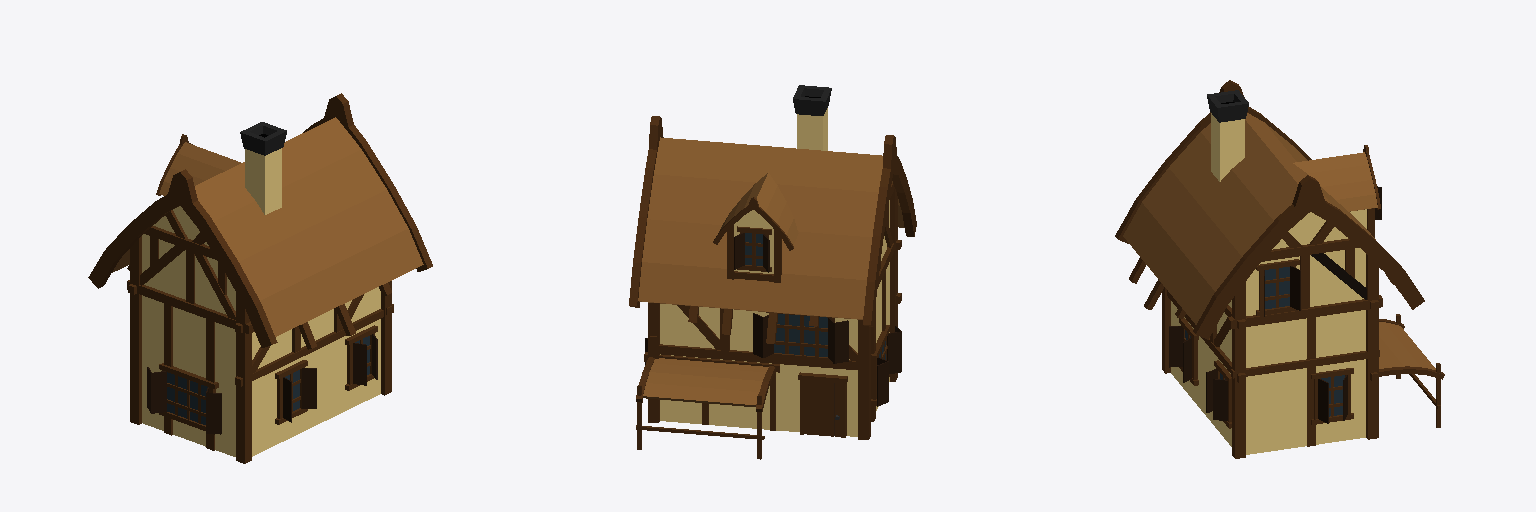
The model's file is business_byzantine.obj.
3 renders of one model, left to right at view 1: azimuth 30°, elevation 25°; view 2: azimuth 150°, elevation 25°; view 3: azimuth 270°, elevation 25°, orthographic.
Parts seen in each view (by area): view 1: pCube6453_Untitled.030; view 2: pCube6453_Untitled.030; view 3: pCube6453_Untitled.030.
Part boxes in pixels (left/top/right/bottom): pCube6453_Untitled.030: left=88, top=93, right=432, bottom=463; pCube6453_Untitled.030: left=629, top=85, right=916, bottom=459; pCube6453_Untitled.030: left=1115, top=80, right=1444, bottom=458.
Size of the model in its own units: 12.15 by 12.69 by 12.83.